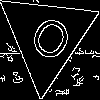O: (22, 12, 76, 73)
